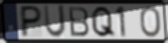1: (114, 5, 128, 39)
B: (68, 6, 91, 38)
O: (138, 5, 162, 39)
P: (20, 4, 43, 39)
Q: (90, 5, 117, 39)
U: (42, 4, 67, 40)
